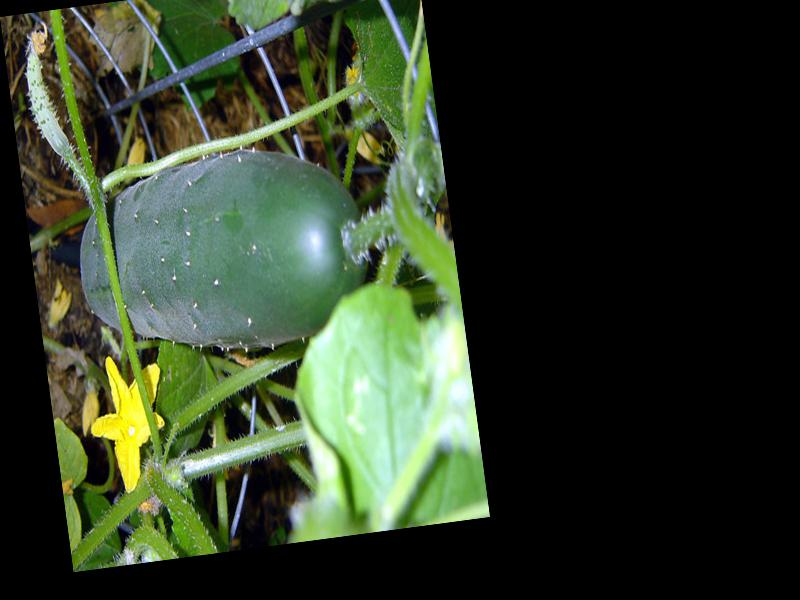Cucumber: (68, 132, 376, 368)
